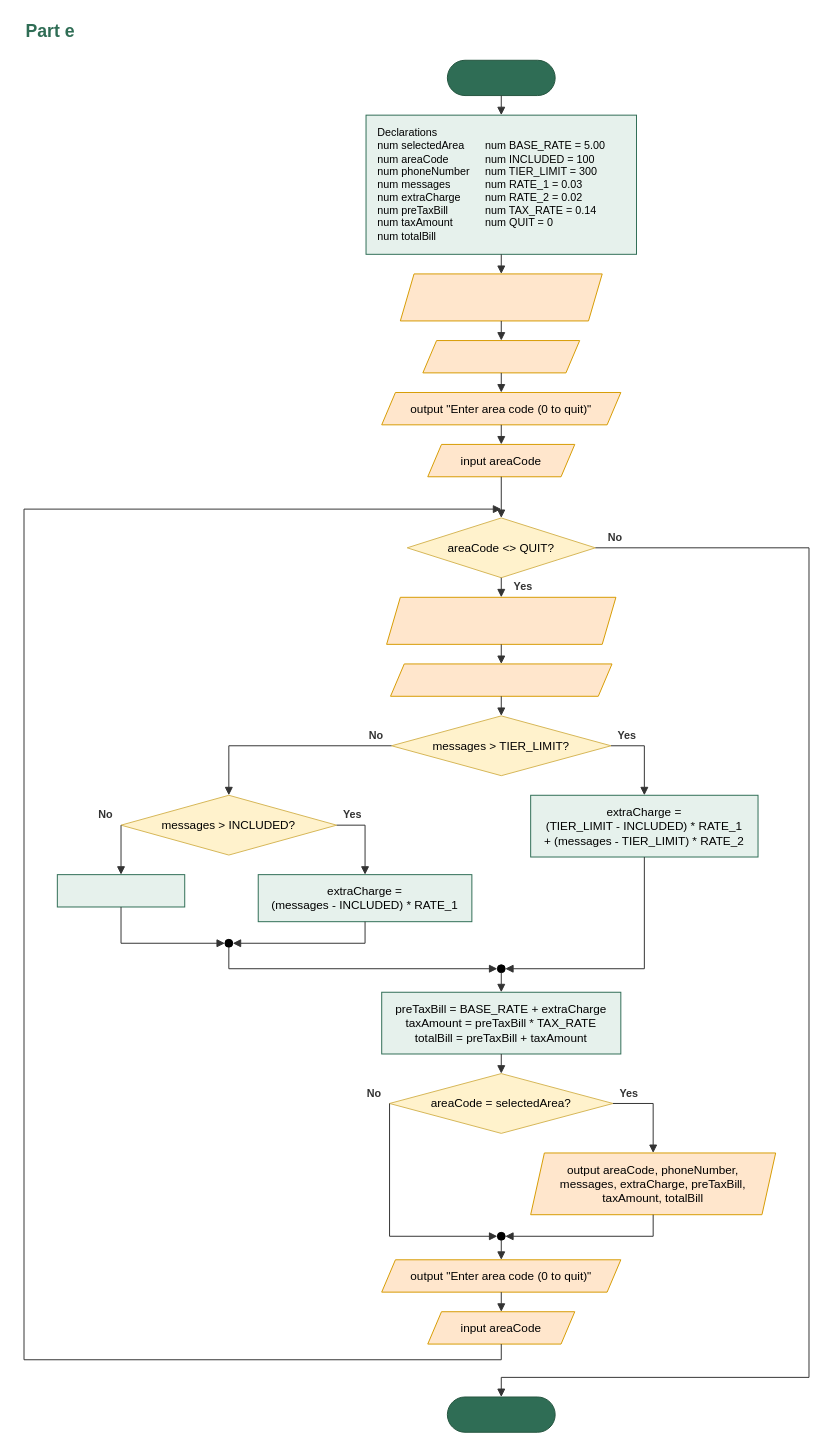
The diagram is 834 pixels wide and 1449 high, and some of its shapes have lost their labels. The shapes that lost their labels are listed below. From the top down, each one's centre as x and y in pixels, then its label:
point 500,77: start
point 500,297: output "Enter the three digit area code to select"
point 501,356: input selectedArea
point 501,620: output "Enter phone number and number of texts sent"
point 501,679: input phoneNumber, messages
point 120,890: extraCharge = 0
point 500,1414: stop
